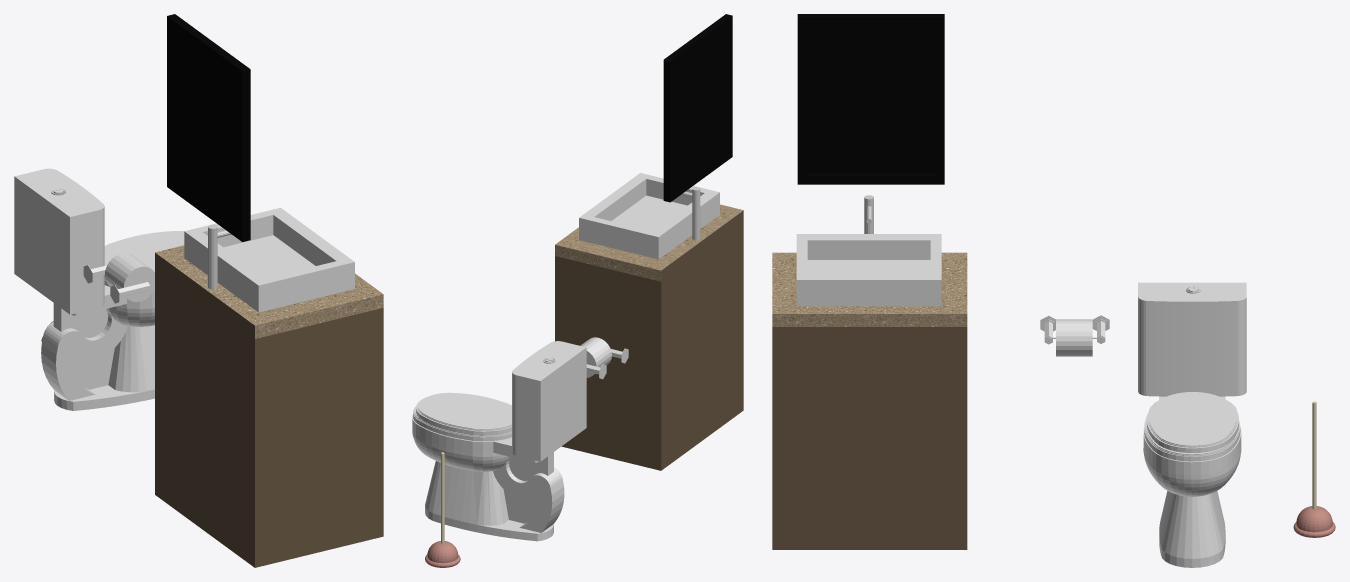
3 views of the same model, side by side, from view 1: azimuth 30°, elevation 25°; view 2: azimuth 150°, elevation 25°; view 3: azimuth 270°, elevation 25° (orthographic). The views are drawn at different scales.
Visible parts, largest first — view 1: Mesh8_Modern_Bathroom_Sink1_Component_1_1_Model; view 2: Mesh8_Modern_Bathroom_Sink1_Component_1_1_Model; view 3: Mesh8_Modern_Bathroom_Sink1_Component_1_1_Model.
Part boxes in pixels (<box>): Mesh8_Modern_Bathroom_Sink1_Component_1_1_Model: <box>14,14,383,567</box>; Mesh8_Modern_Bathroom_Sink1_Component_1_1_Model: <box>412,14,743,567</box>; Mesh8_Modern_Bathroom_Sink1_Component_1_1_Model: <box>772,14,1335,567</box>.
Bounding box in the file's own units: 0.7113 × 1.98 × 1.84.
Materials: 9 (2 with a texture image).
